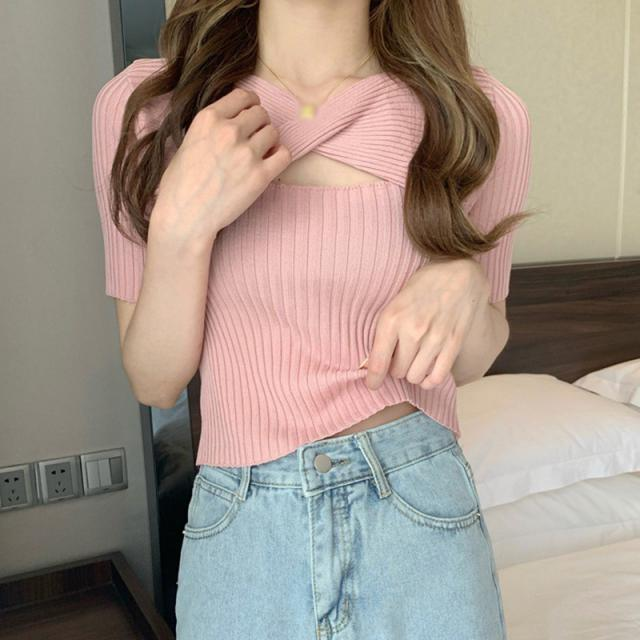Shirt: (90, 53, 534, 468)
